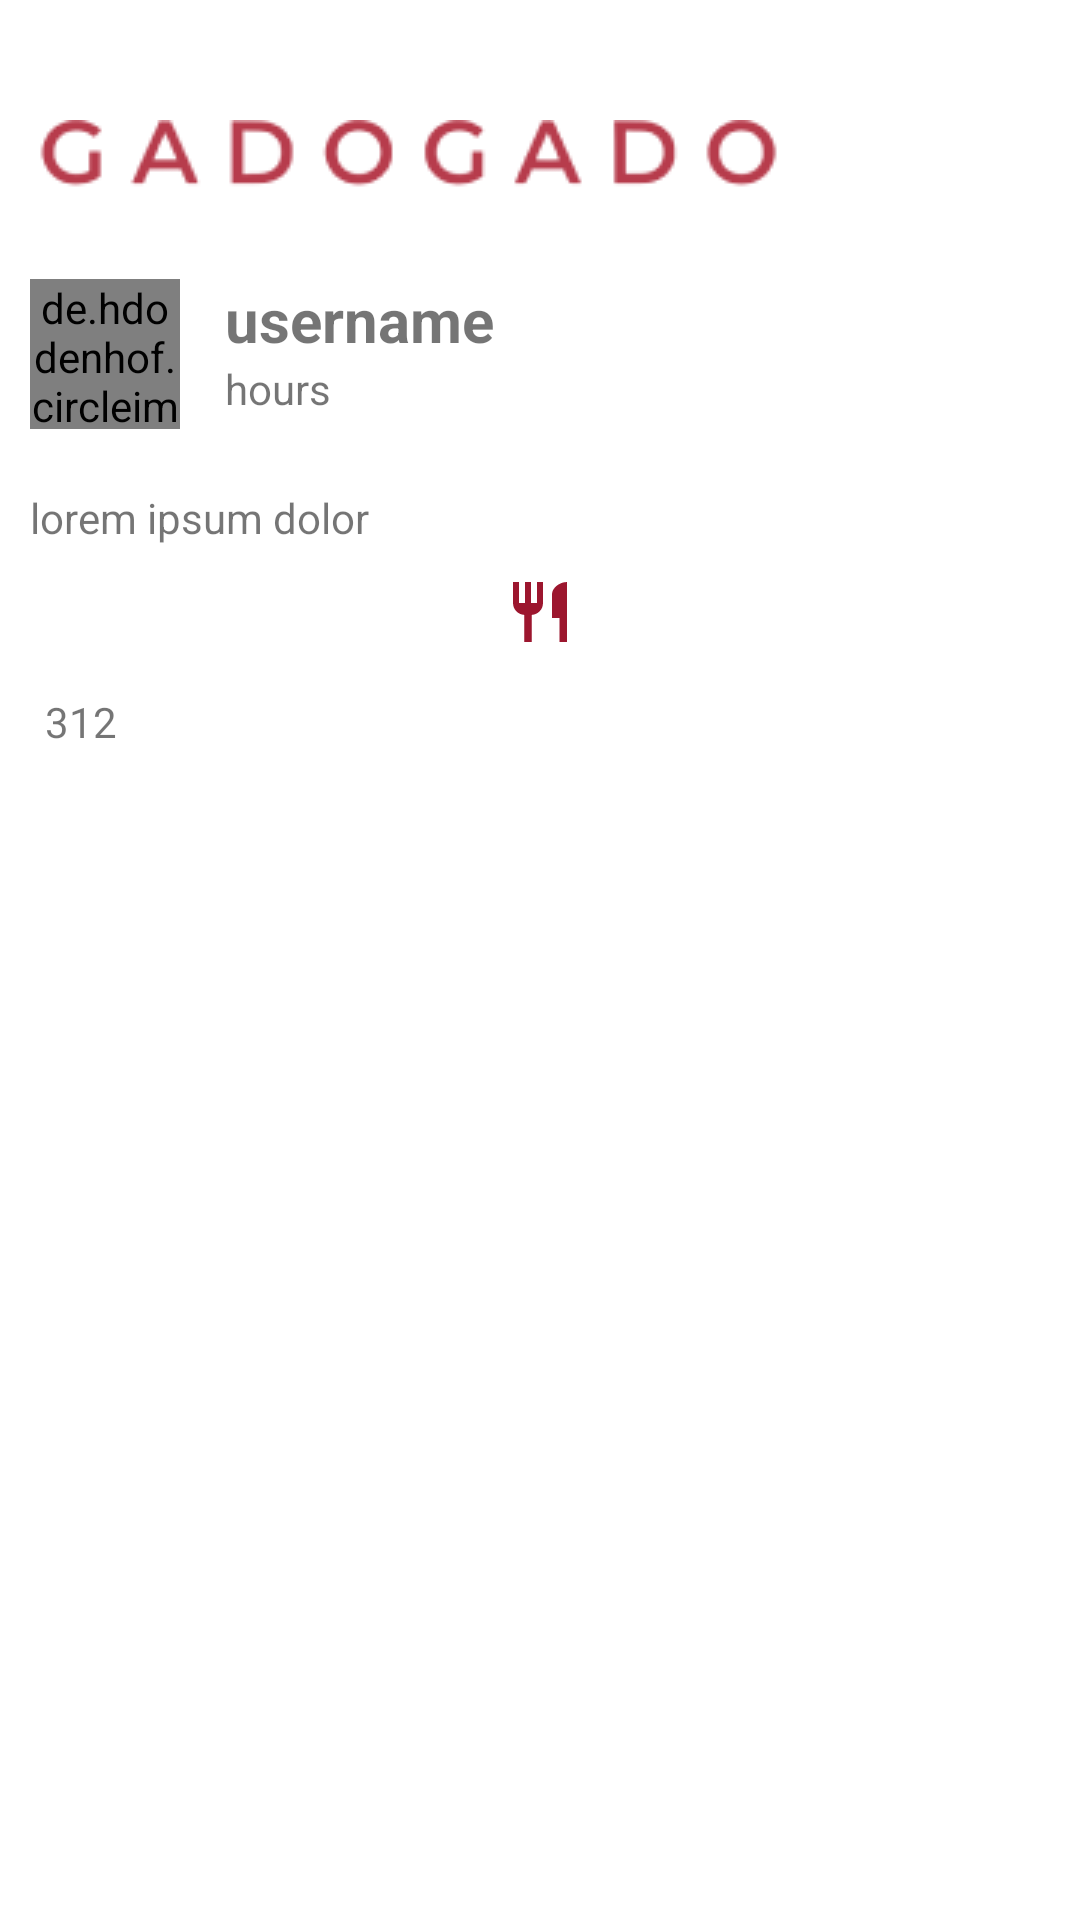

Icons on this 1080x1920 Android screen, each with the point to tap as point (x, y):
restaurant: point (540, 612)
